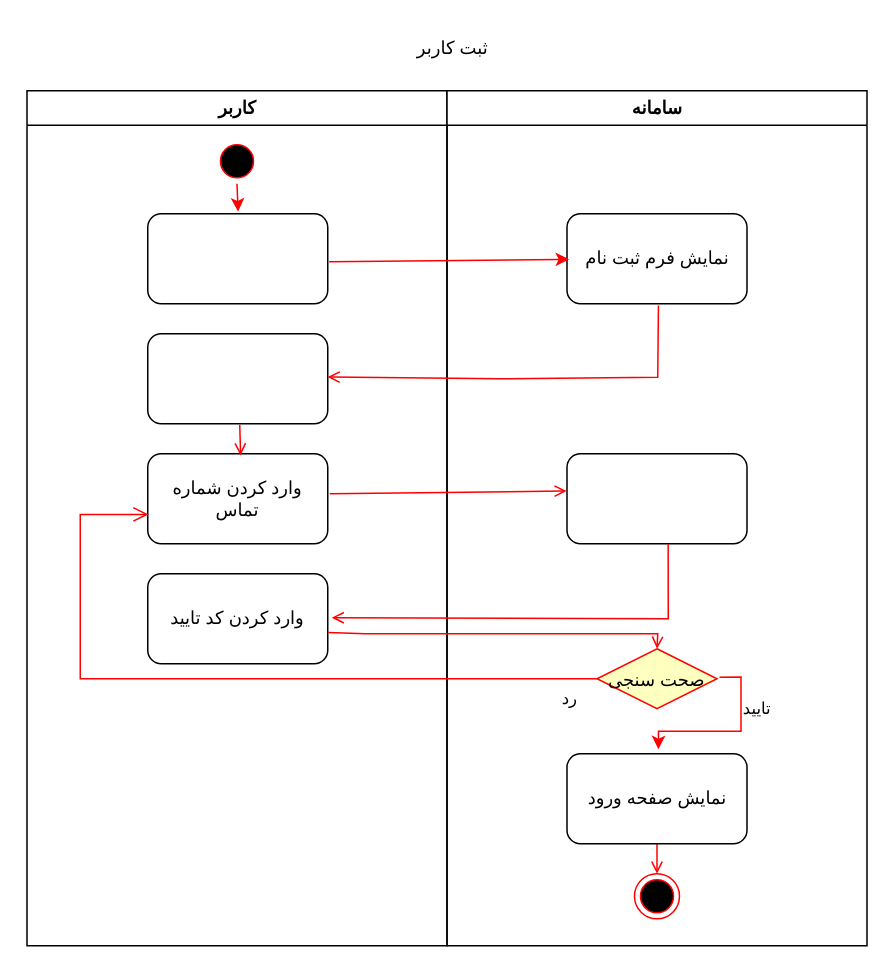
Image size: 893x972. Some labels were removed from this diagram. Each missing label, with the centre of its shape:
"ارسال کد تایید" belongs at (656,498).
"فشردن گزینه عضویت" belongs at (237,258).
"پر کردن اطلاعات" belongs at (237,378).
